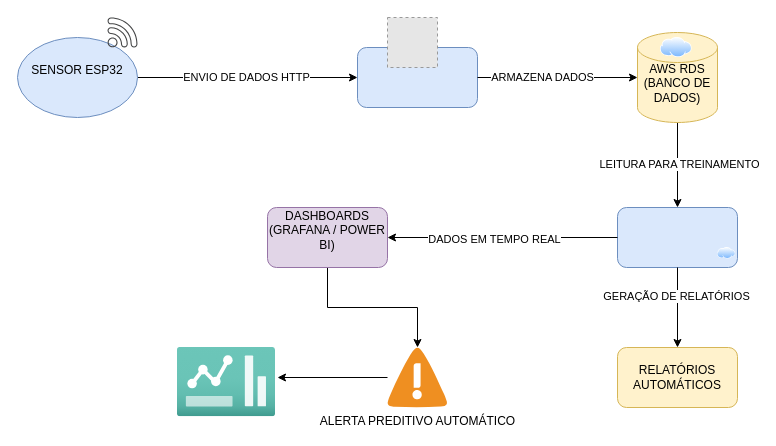
This 776x446 diagram has some shape labels left out. Grey dashed boxes stand in for pictures. The centre of each missing label's shape, as x and y in pixels:
"API PYTHON (FLASK)" goes at (x=417, y=77).
"PROCESSAMENTO IA (AWS EC2)" goes at (x=677, y=237).
